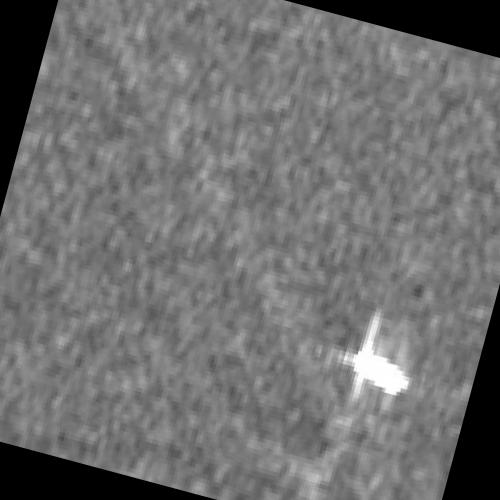ship: (351, 349, 412, 396)
